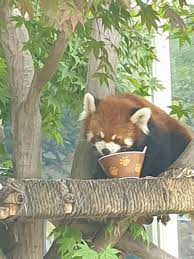redPanda: (75, 86, 190, 185)
